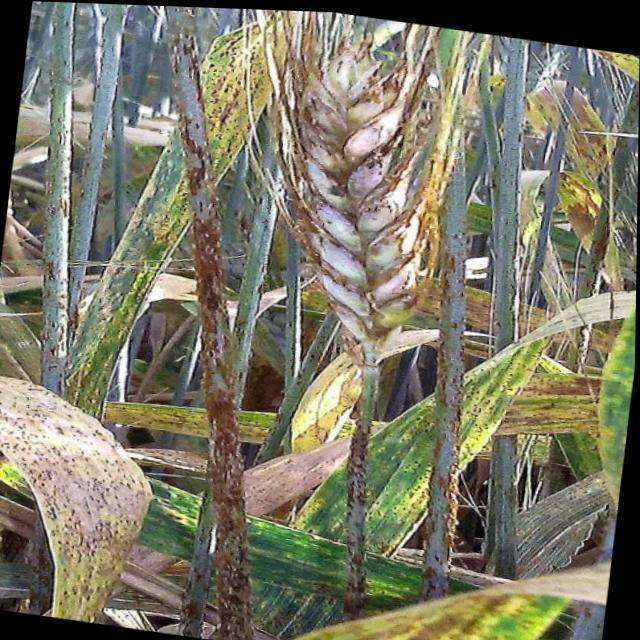Stem Rust: (168, 4, 636, 639), (0, 1, 152, 621)
